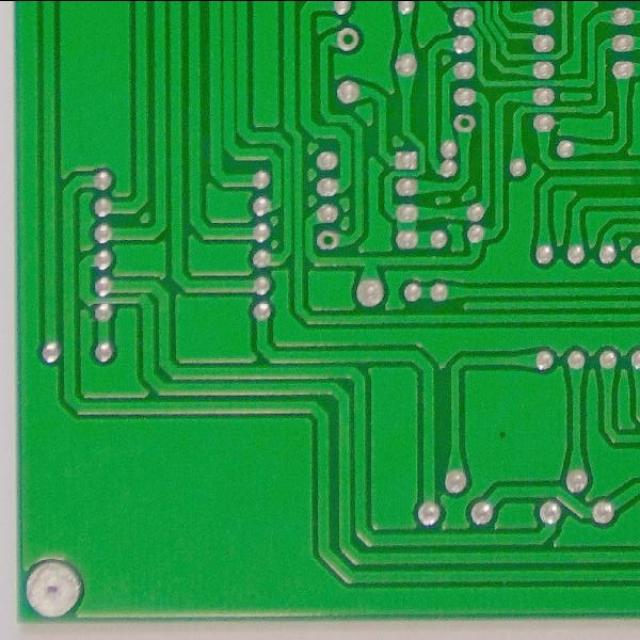Missing_Hole: (334, 26, 363, 53), (315, 228, 341, 252), (453, 111, 478, 134)
